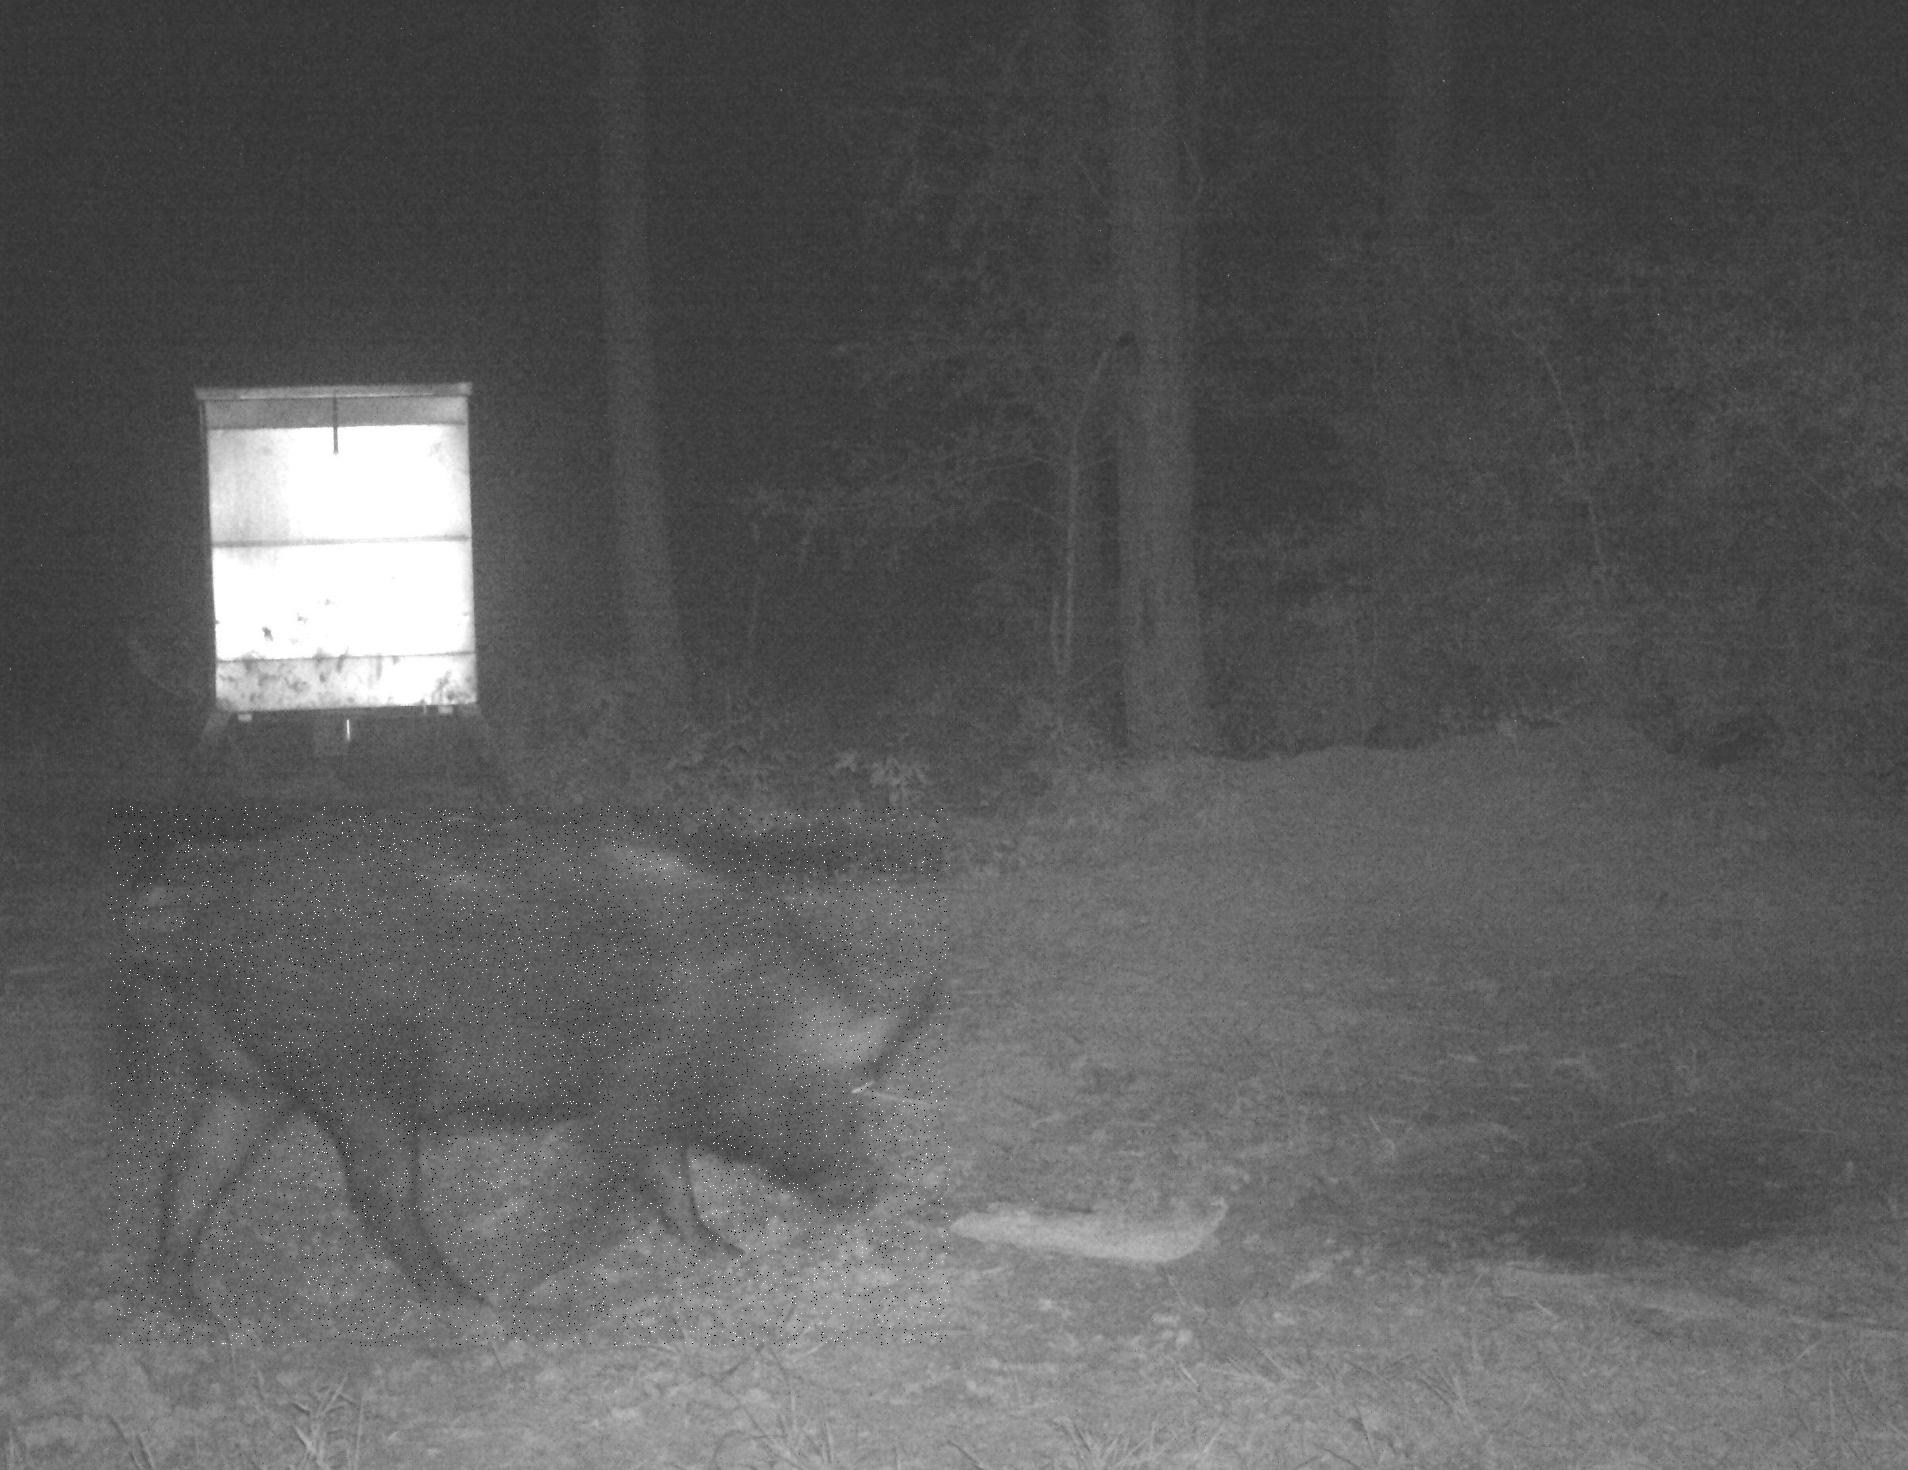Hog: (108, 806, 949, 1346)
